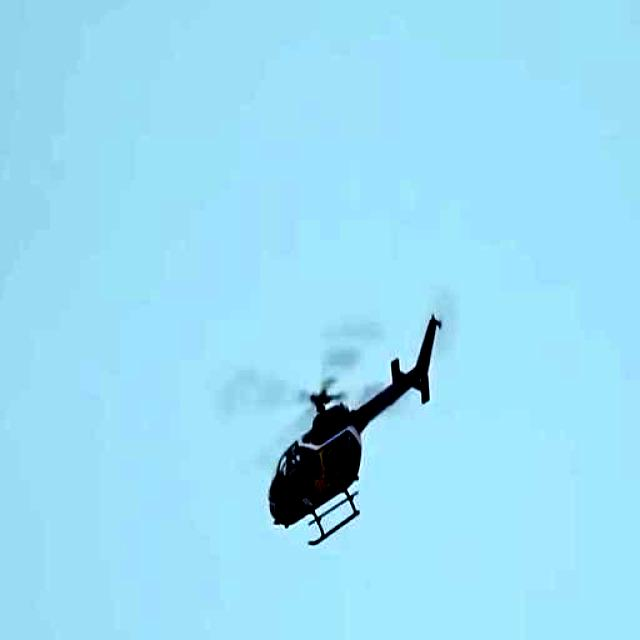drone: (238, 309, 450, 551)
